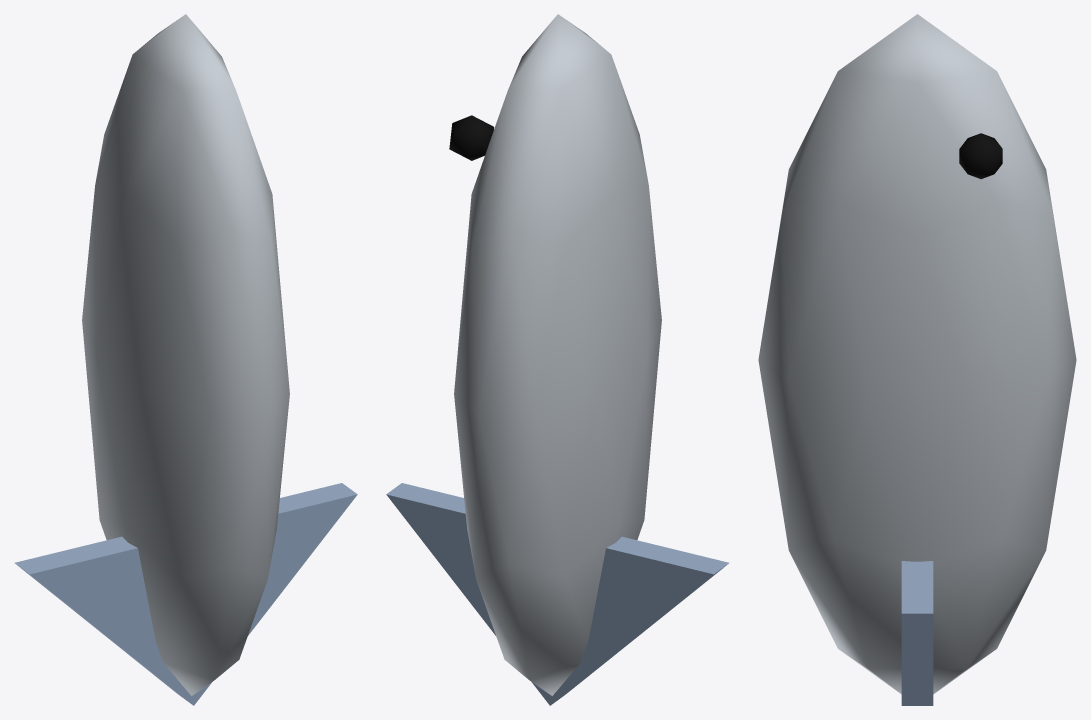
The model's file is cloudfish.glb.
The picture shows the model from 3 angles, left to right: view 1: azimuth 30°, elevation 25°; view 2: azimuth 150°, elevation 25°; view 3: azimuth 270°, elevation 25°; orthographic projection.
Visible parts, largest first — view 1: cloudfish_v0; view 2: cloudfish_v0; view 3: cloudfish_v0.
Part boxes in pixels (box(x1,y1,x2,y2)): cloudfish_v0: box(14, 14, 357, 705); cloudfish_v0: box(386, 14, 729, 705); cloudfish_v0: box(758, 14, 1076, 705).
Bounding box in the file's own units: 0.12 × 0.24 × 0.1.
